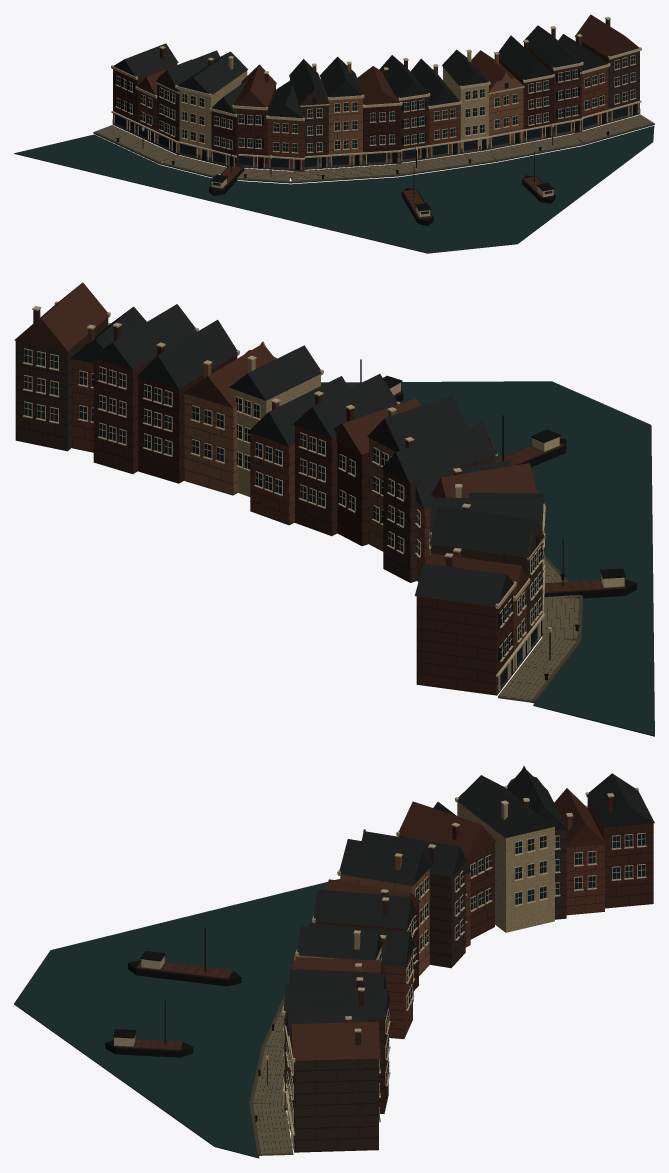
3 renders of one model, top to bottom at view 1: azimuth 30°, elevation 25°; view 2: azimuth 150°, elevation 25°; view 3: azimuth 270°, elevation 25°, orthographic. The views are drawn at different scales.
Parts seen in each view (by area): view 1: kolk-open-rijstuin-0, kolk-open-rijstuin-7, kolk-open-rijstuin-4, kolk-open-rijstuin-5, kolk-open-rijstuin-1, kolk-open-rijstuin-9, kolk-open-rijstuin-3, kolk-open-rijstuin-2, kolk-open-rijstuin-10, kolk-open-rijstuin-8, kolk-open-rijstuin-12, kolk-open-rijstuin-6 (+2 smaller); view 2: kolk-open-rijstuin-0, kolk-open-rijstuin-7, kolk-open-rijstuin-3, kolk-open-rijstuin-9, kolk-open-rijstuin-4, kolk-open-rijstuin-10, kolk-open-rijstuin-5, kolk-open-rijstuin-12, kolk-open-rijstuin-8, kolk-open-rijstuin-13, kolk-open-rijstuin-1, kolk-open-rijstuin-6 (+2 smaller); view 3: kolk-open-rijstuin-0, kolk-open-rijstuin-7, kolk-open-rijstuin-10, kolk-open-rijstuin-9, kolk-open-rijstuin-3, kolk-open-rijstuin-4, kolk-open-rijstuin-11, kolk-open-rijstuin-8, kolk-open-rijstuin-1, kolk-open-rijstuin-5, kolk-open-rijstuin-6, kolk-open-rijstuin-13 (+1 smaller).
Boxes of the visible parts, x1,y1,x2,y2 form: kolk-open-rijstuin-0: [14, 126, 654, 253]; kolk-open-rijstuin-7: [113, 25, 608, 118]; kolk-open-rijstuin-4: [111, 17, 641, 216]; kolk-open-rijstuin-5: [114, 55, 634, 214]; kolk-open-rijstuin-1: [95, 114, 653, 181]; kolk-open-rijstuin-9: [137, 14, 639, 218]; kolk-open-rijstuin-3: [113, 28, 581, 163]; kolk-open-rijstuin-2: [93, 109, 654, 183]; kolk-open-rijstuin-10: [156, 19, 639, 163]; kolk-open-rijstuin-8: [137, 36, 608, 170]; kolk-open-rijstuin-12: [211, 42, 553, 166]; kolk-open-rijstuin-6: [114, 69, 636, 225]; kolk-open-rijstuin-0: [321, 381, 654, 736]; kolk-open-rijstuin-7: [70, 304, 544, 606]; kolk-open-rijstuin-3: [93, 326, 513, 695]; kolk-open-rijstuin-9: [14, 282, 625, 596]; kolk-open-rijstuin-4: [22, 301, 624, 690]; kolk-open-rijstuin-10: [15, 309, 544, 644]; kolk-open-rijstuin-5: [24, 349, 624, 686]; kolk-open-rijstuin-12: [138, 346, 368, 546]; kolk-open-rijstuin-8: [72, 328, 526, 662]; kolk-open-rijstuin-13: [184, 341, 395, 551]; kolk-open-rijstuin-1: [498, 559, 579, 702]; kolk-open-rijstuin-6: [360, 359, 636, 680]; kolk-open-rijstuin-0: [14, 879, 340, 1158]; kolk-open-rijstuin-7: [283, 768, 654, 1036]; kolk-open-rijstuin-10: [291, 766, 566, 1152]; kolk-open-rijstuin-9: [116, 788, 605, 1060]; kolk-open-rijstuin-3: [285, 797, 653, 1113]; kolk-open-rijstuin-4: [114, 786, 646, 1148]; kolk-open-rijstuin-11: [298, 802, 554, 960]; kolk-open-rijstuin-8: [287, 816, 604, 1105]; kolk-open-rijstuin-1: [252, 1004, 293, 1155]; kolk-open-rijstuin-5: [113, 833, 645, 1131]; kolk-open-rijstuin-6: [105, 927, 293, 1142]; kolk-open-rijstuin-13: [293, 856, 429, 975].
Bounding box in the file's own units: 141 × 24 × 108.
14 materials, 14 textured.
